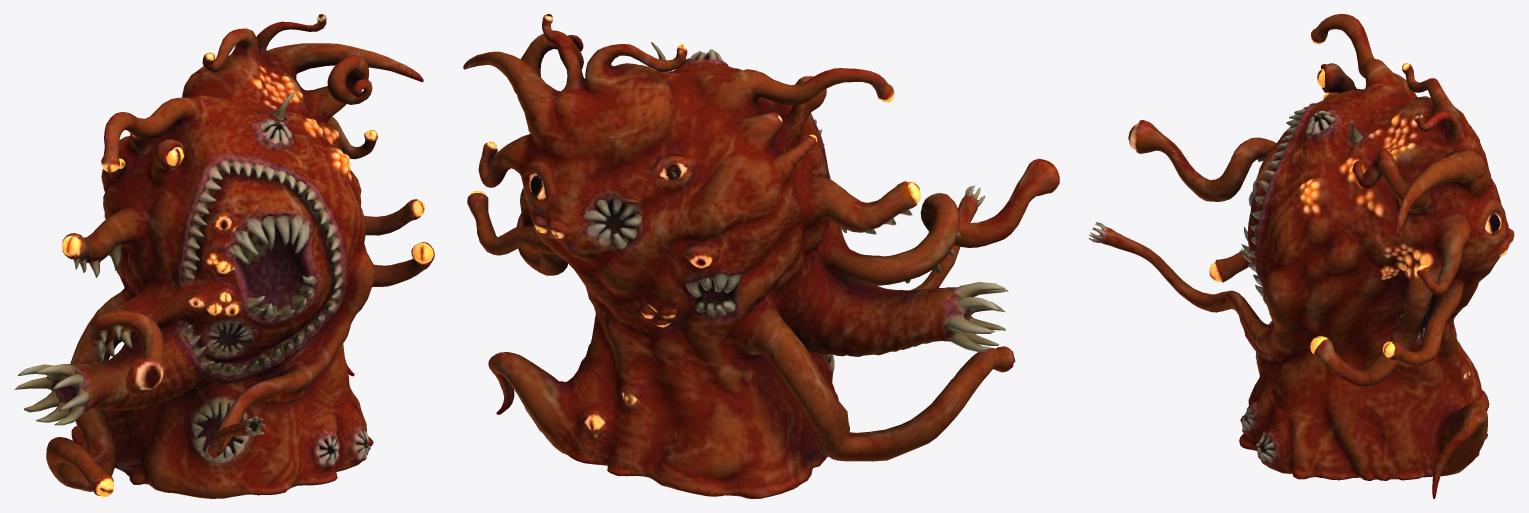
The model's file is MZ4250 - Gibbering Mouther_2025.glb.
3 renders of one model, left to right at view 1: azimuth 30°, elevation 25°; view 2: azimuth 150°, elevation 25°; view 3: azimuth 270°, elevation 25°, orthographic. The views are drawn at different scales.
Parts seen in each view (by area): view 1: ORGANIC BASE SPHERE.001; view 2: ORGANIC BASE SPHERE.001; view 3: ORGANIC BASE SPHERE.001.
Part boxes in pixels (left/top/right/bottom): ORGANIC BASE SPHERE.001: left=14, top=14, right=434, bottom=498; ORGANIC BASE SPHERE.001: left=463, top=14, right=1059, bottom=498; ORGANIC BASE SPHERE.001: left=1088, top=14, right=1514, bottom=498.
Bounding box in the file's own units: 105 × 85.41 × 88.1.
Materials: 1 (1 with a texture image).
